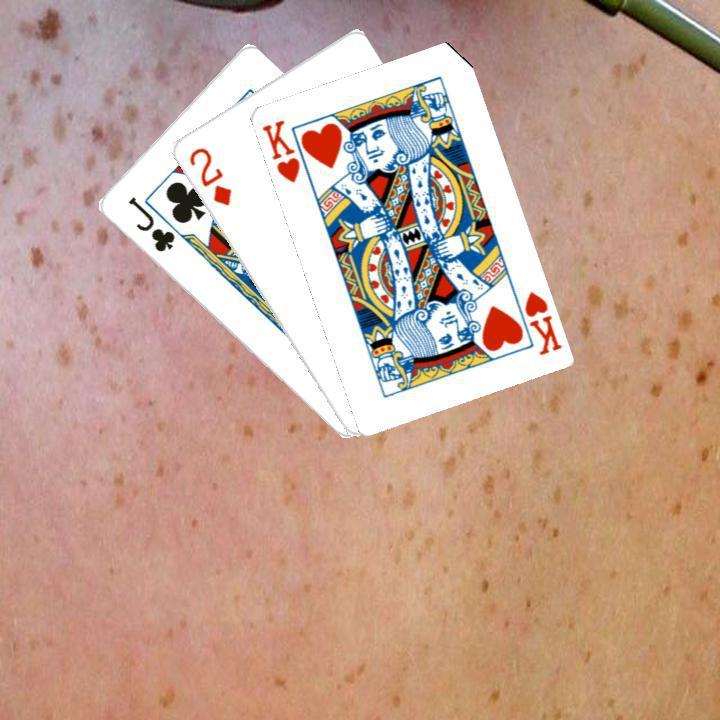2: (183, 142, 234, 208)
J: (123, 192, 177, 254)
K: (257, 115, 302, 185), (519, 286, 563, 357)
